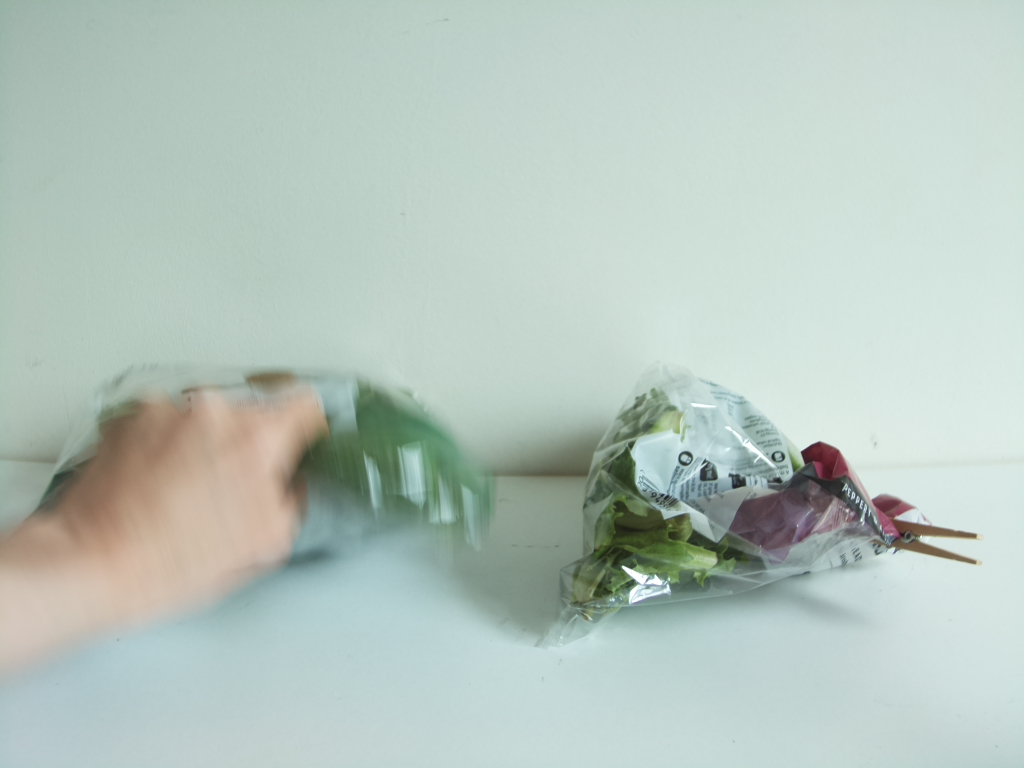salad: (40, 370, 496, 566), (554, 373, 896, 628)
